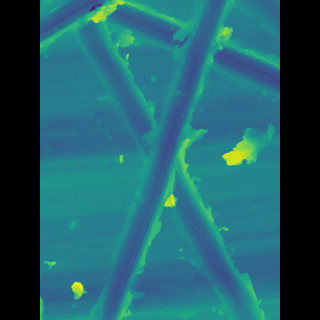Loch: (95, 0, 237, 320), (103, 0, 213, 320), (117, 0, 250, 99)
